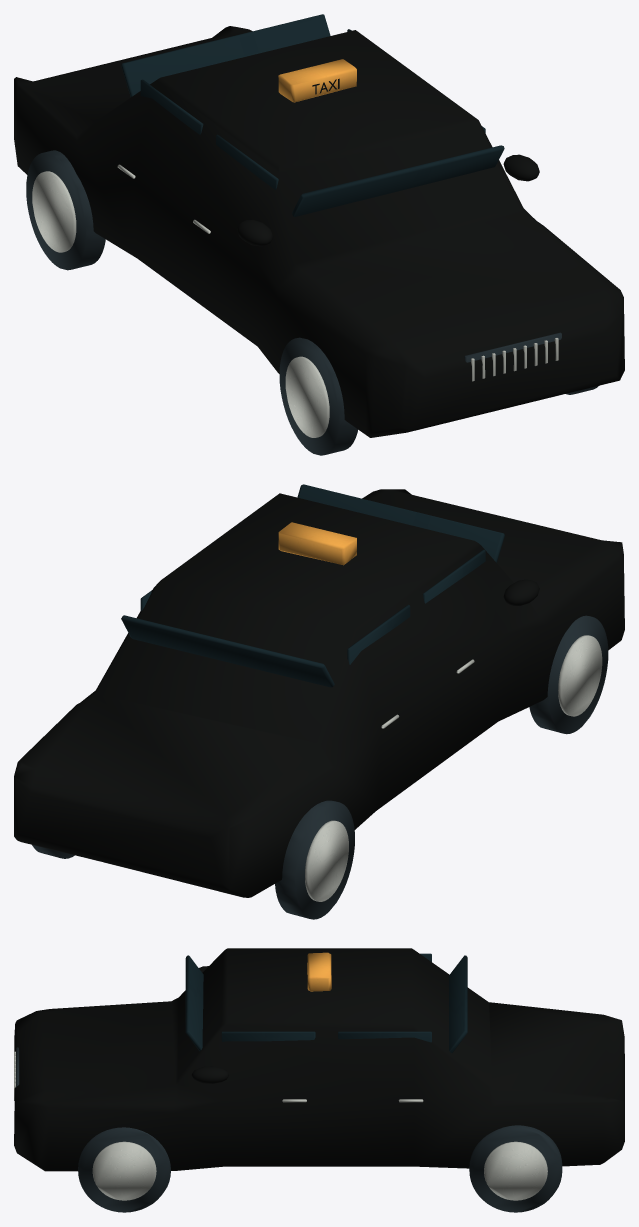
The model's file is car.glb.
The picture shows the model from 3 angles, top to bottom: view 1: azimuth 30°, elevation 25°; view 2: azimuth 150°, elevation 25°; view 3: azimuth 270°, elevation 25°; orthographic projection. The views are drawn at different scales.
Parts seen in each view (by area): view 1: Coachwork, Windshield.001, Windshield, Tire.001, Tire, Alloy wheel.001, Alloy wheel, Taxi sign, Side glass.001, Side glass, Door mirror, Door mirror.001 (+1 smaller); view 2: Coachwork, Windshield.001, Tire.001, Windshield, Tire, Alloy wheel, Alloy wheel.001, Taxi sign, Side glass.001, Side glass, Door mirror; view 3: Coachwork, Tire.003, Tire.002, Alloy wheel.002, Alloy wheel.003, Windshield.001, Windshield, Side glass.002, Taxi sign, Side glass.003, Door mirror.001.
Part boxes in pixels (x1,y1,x2,y2): Coachwork: [14, 26, 624, 437]; Windshield.001: [121, 14, 330, 96]; Windshield: [292, 145, 504, 216]; Tire.001: [26, 150, 105, 270]; Tire: [279, 337, 357, 455]; Alloy wheel.001: [32, 171, 76, 252]; Alloy wheel: [285, 356, 329, 437]; Taxi sign: [278, 59, 356, 102]; Side glass.001: [140, 79, 203, 134]; Side glass: [216, 134, 278, 189]; Door mirror: [237, 219, 272, 246]; Door mirror.001: [503, 154, 539, 181]; Coachwork: [14, 489, 624, 897]; Windshield.001: [121, 615, 334, 687]; Tire.001: [275, 800, 354, 919]; Windshield: [297, 484, 504, 562]; Tire: [529, 615, 608, 734]; Alloy wheel: [558, 635, 602, 716]; Alloy wheel.001: [305, 820, 348, 901]; Taxi sign: [278, 522, 356, 565]; Side glass.001: [347, 604, 410, 664]; Side glass: [422, 549, 485, 603]; Door mirror: [503, 579, 539, 605]; Coachwork: [14, 948, 624, 1171]; Tire.003: [469, 1125, 562, 1212]; Tire.002: [78, 1127, 170, 1212]; Alloy wheel.002: [92, 1141, 156, 1200]; Alloy wheel.003: [484, 1141, 547, 1200]; Windshield.001: [449, 955, 467, 1053]; Windshield: [185, 955, 203, 1050]; Side glass.002: [221, 1031, 315, 1041]; Taxi sign: [307, 952, 331, 991]; Side glass.003: [338, 1031, 431, 1042]; Door mirror.001: [191, 1066, 228, 1083].
Bounding box in the file's own units: 1.8 × 1.5 × 4.2.
1 material, 1 textured.
